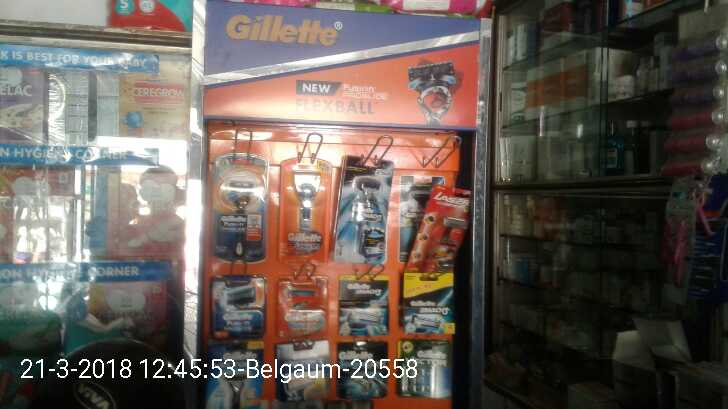gillette: (404, 183, 474, 271), (337, 162, 394, 262), (213, 160, 266, 262), (280, 162, 336, 258), (399, 270, 456, 341), (214, 335, 265, 409), (332, 278, 393, 334), (402, 342, 457, 403), (208, 281, 272, 332), (335, 340, 385, 404), (275, 344, 332, 398), (277, 280, 327, 335)
